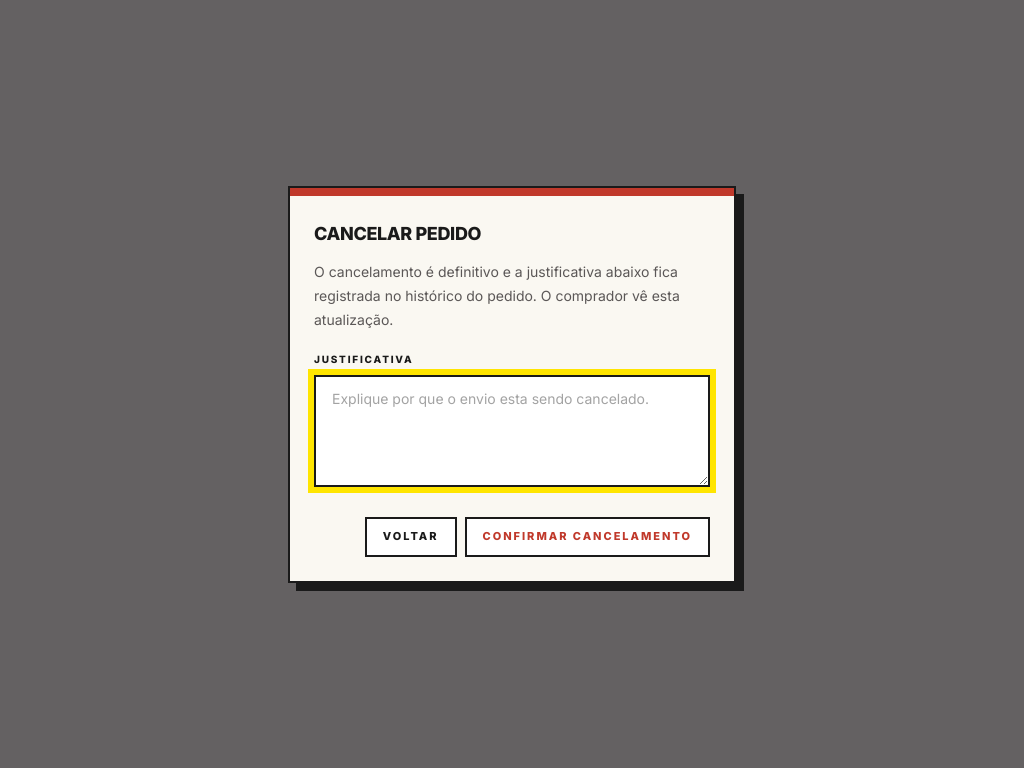
Scenario: VendorCancelShipmentModal › does not confirm without a justification and shows a validation error
The width and height of the screenshot is (1024, 768).
Step 1. Click the button "Confirmar cancelamento" → (587, 536), box x1=464 y1=516 x2=710 y2=556
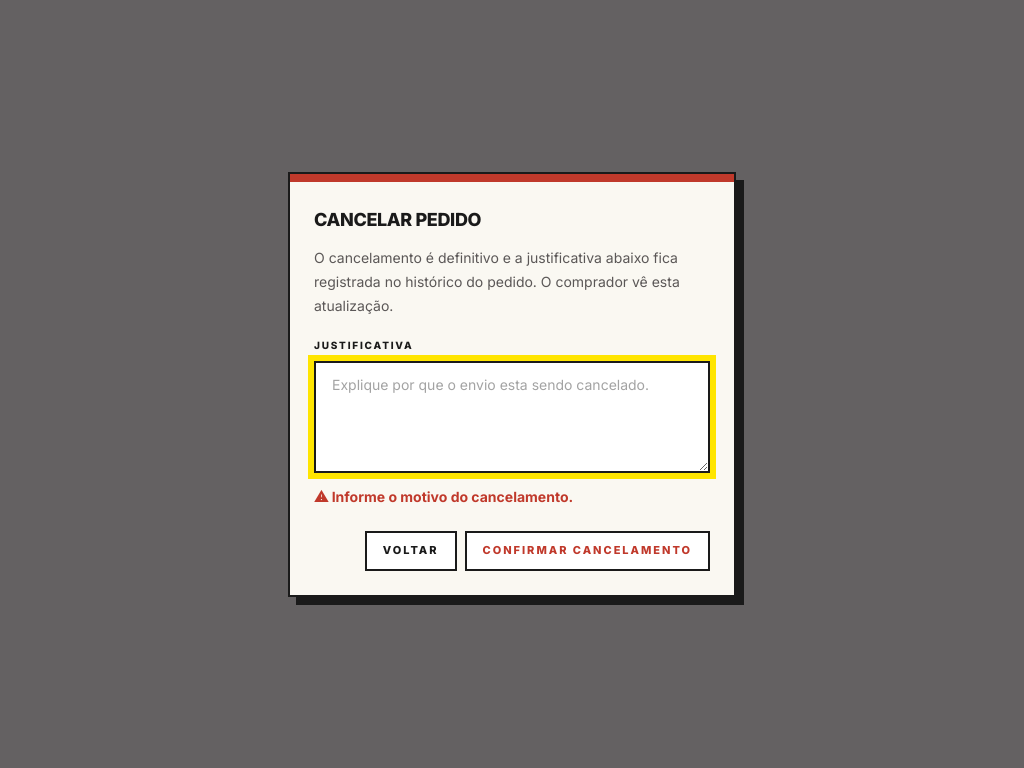
Now the text "⚠ Informe o motivo do cancelamento." is shown, box x1=314 y1=488 x2=573 y2=504
